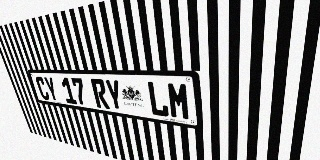1: (60, 77, 77, 104)
7: (70, 78, 89, 106)
C: (35, 76, 50, 101)
L: (146, 81, 170, 118)
M: (166, 82, 191, 121)
R: (90, 79, 110, 109)
Y: (104, 79, 125, 111), (43, 77, 60, 102)
